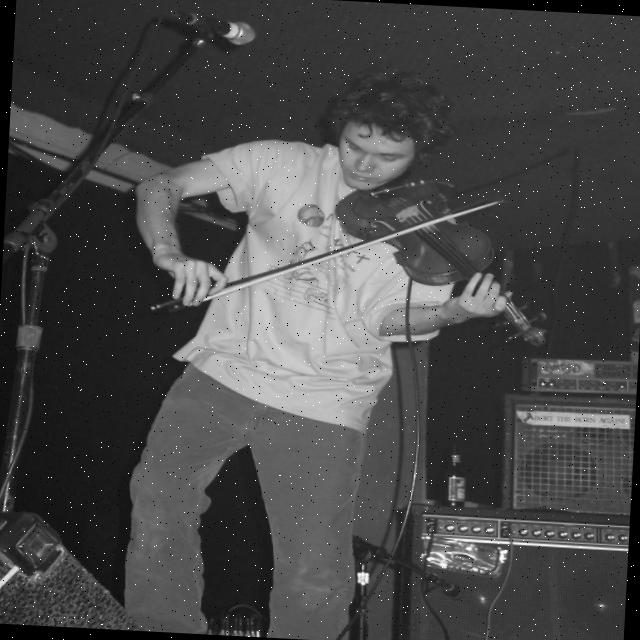violin: (332, 172, 560, 347)
